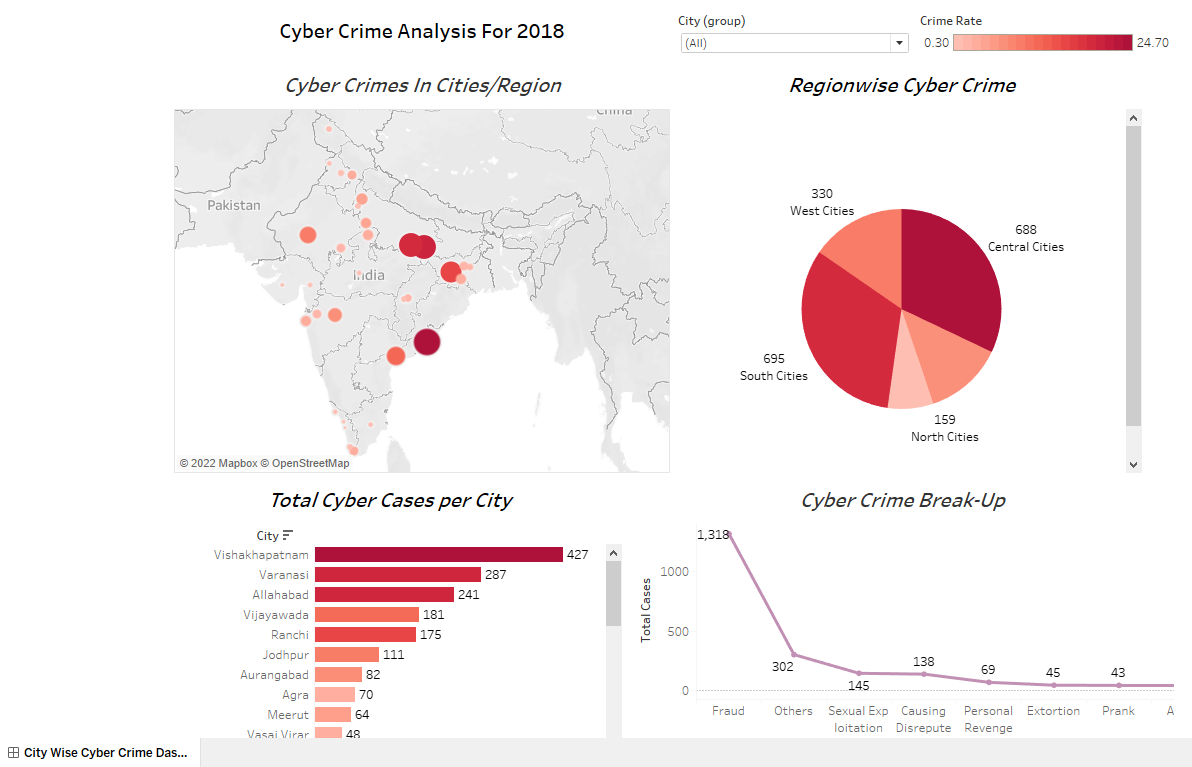

This screenshot's page, from the dashboard's own definition file:
{"tool":"tableau","page":{"name":"City Wise Cyber Crime Dashboard","canvas":[1024,768],"ordinal":0},"visuals":[{"type":"worksheet","title":"Sheet 9","mark":"Automatic","box":[8,8,504,53.7]},{"type":"filter","title":"Cyber Crimes In Cities/Region","param":"[federated.1yr2sa41ei1bc015v8vex0b9arlt].[City (group)]","box":[512,8,241.7,52]},{"type":"legend","title":"Cyber Crimes In Cities/Region","param":"[federated.1yr2sa41ei1bc015v8vex0b9arlt].[sum:Crime Rate:qk]","box":[753.7,8,262.3,53.7]},{"type":"worksheet","title":"Cyber Crimes In Cities/Region","mark":"Automatic","box":[8,61.7,504,415.1]},{"type":"worksheet","title":"Regionwise Cyber Crime","mark":"Pie","box":[512,61.7,504,415.1]},{"type":"worksheet","title":"Total Cyber Cases per City","mark":"Automatic","rows":["City"],"cols":["Total"],"box":[8,476.8,455.8,283.2]},{"type":"worksheet","title":"Cyber Crime Break-Up","mark":"Line","box":[463.8,476.8,552.2,283.2]}]}

Visuals, with their boxes in screenshot pixels (x1, y1, x2, y2):
"Sheet 9" worksheet: Rect(0, 33, 436, 86)
"Cyber Crimes In Cities/Region" filter: Rect(436, 33, 674, 84)
"Cyber Crimes In Cities/Region" legend: Rect(674, 33, 932, 86)
"Cyber Crimes In Cities/Region" worksheet: Rect(0, 86, 436, 494)
"Regionwise Cyber Crime" worksheet (Pie marks): Rect(436, 86, 932, 494)
"Total Cyber Cases per City" worksheet: Rect(0, 494, 388, 766)
"Cyber Crime Break-Up" worksheet (Line marks): Rect(388, 494, 932, 766)
